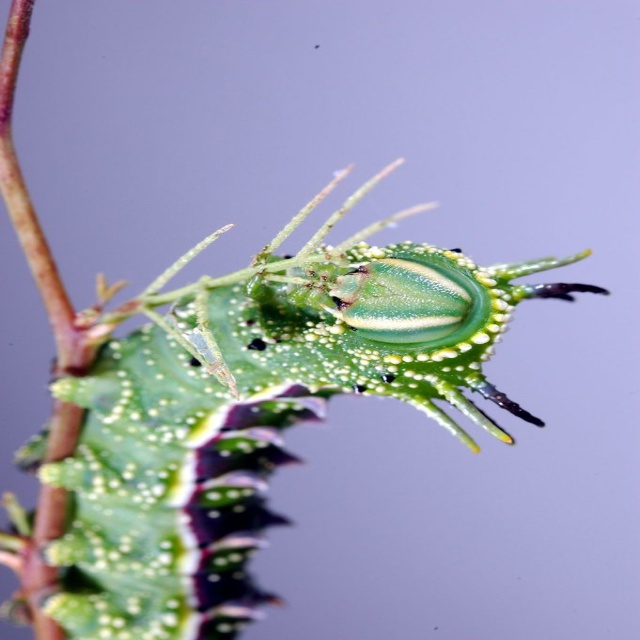Caterpillar: (34, 153, 611, 640)
